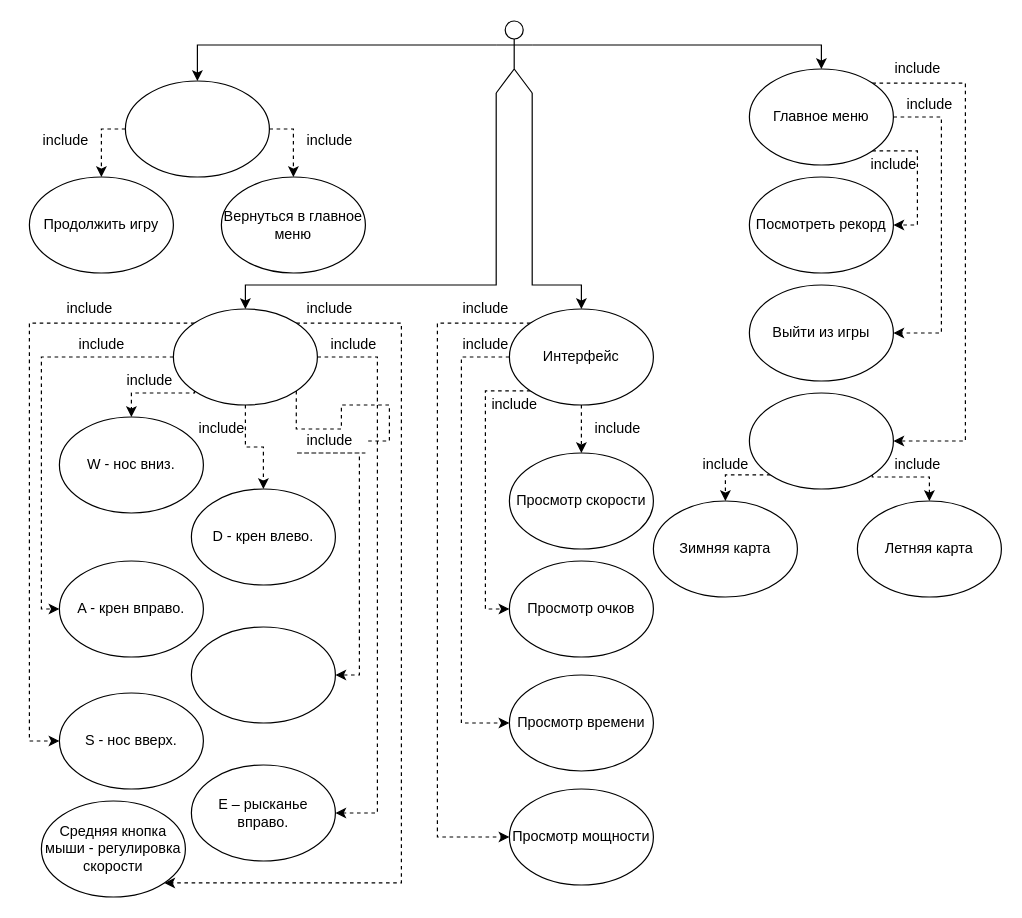
This 1022x918 diagram has some shape labels left out. Each missing label, with the centre of its shape:
"Q – рысканье влево." goes at point 262,674.
"Выбрать карту" goes at point 820,440.
"Игровое меню" goes at point 196,128.
"Управление" goes at point 244,356.
"Юзер" goes at point 513,56.
